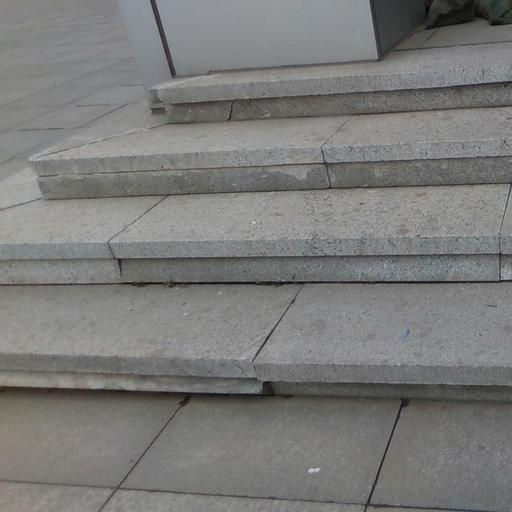stairs: (0, 43, 511, 398), (0, 283, 511, 399), (32, 107, 511, 198), (154, 42, 511, 121)
